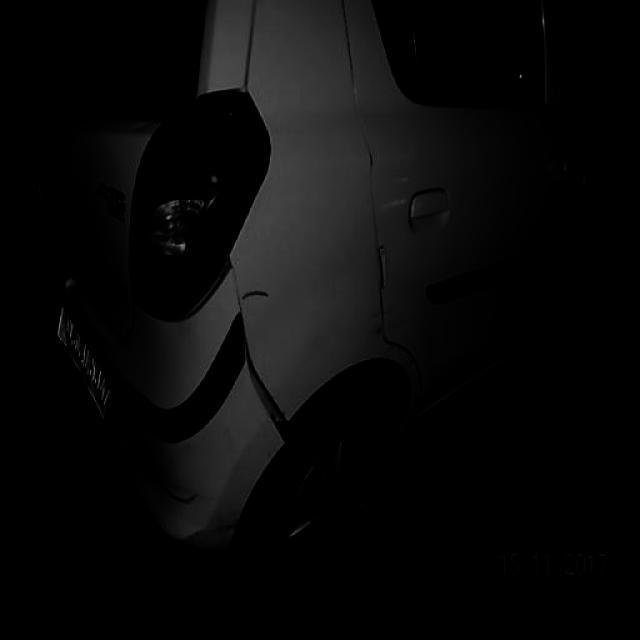car damage: (244, 353, 296, 449), (136, 454, 199, 510), (184, 523, 238, 538), (369, 303, 401, 323), (374, 316, 405, 336)
